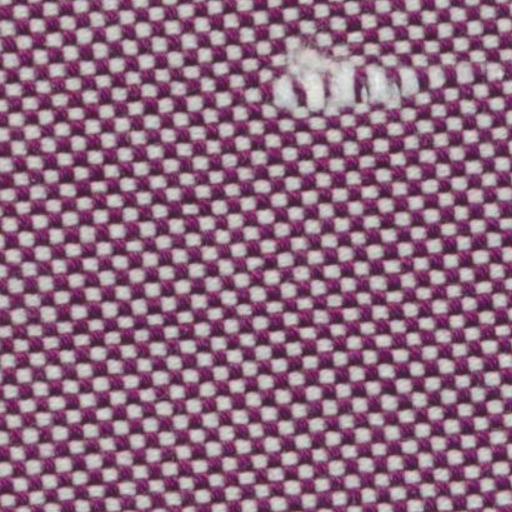DaiSha: (256, 30, 488, 122)
